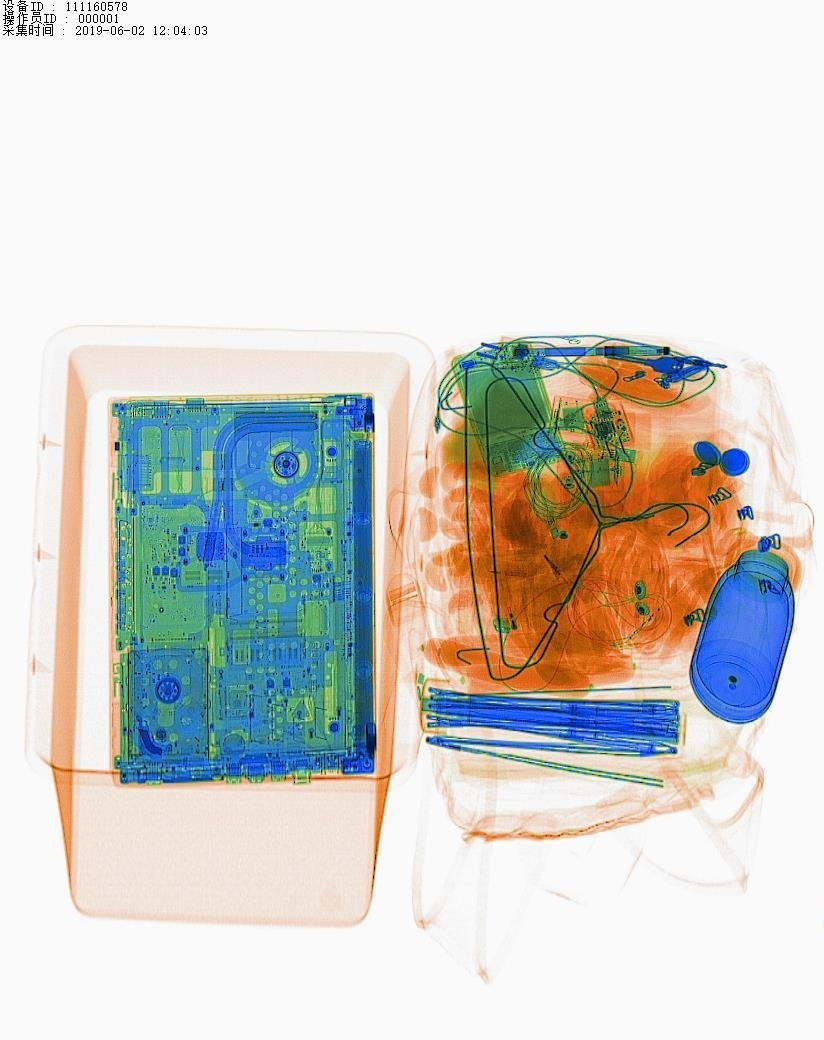NonmetallicFire: (470, 553, 529, 640)
